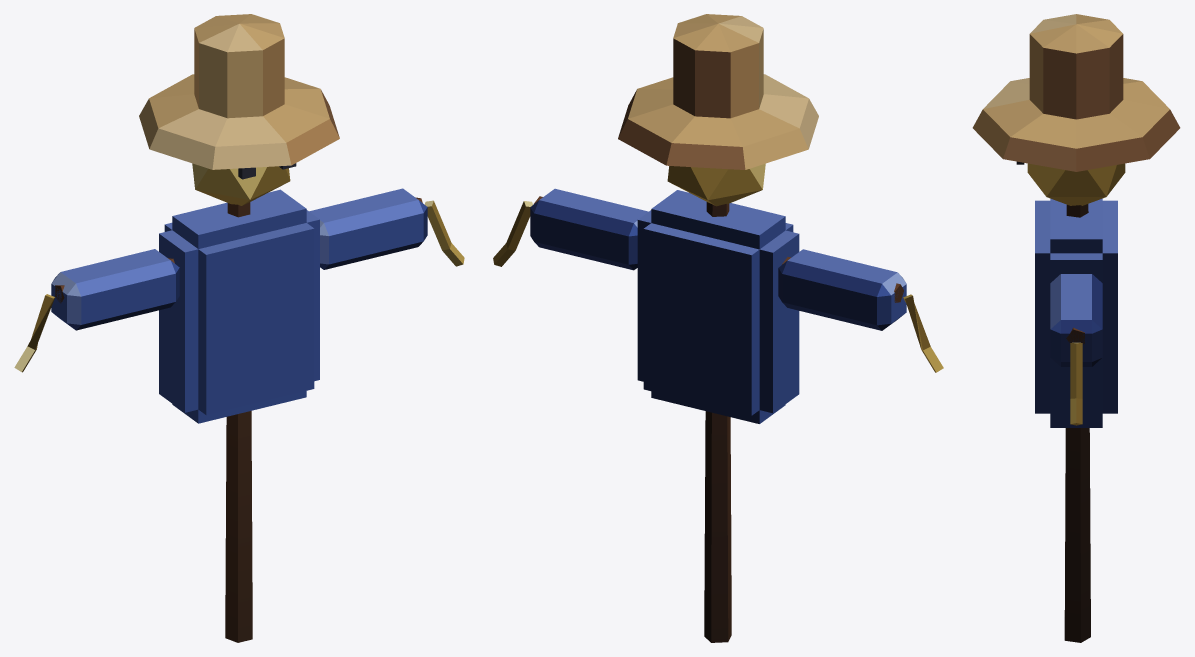
The model's file is scarecrow.glb.
The picture shows the model from 3 angles, left to right: view 1: azimuth 30°, elevation 25°; view 2: azimuth 150°, elevation 25°; view 3: azimuth 270°, elevation 25°; orthographic projection.
Parts seen in each view (by area): view 1: scarecrow; view 2: scarecrow; view 3: scarecrow.
Boxes of the visible parts, <box> form: scarecrow: <box>14,14,464,642</box>; scarecrow: <box>493,14,943,642</box>; scarecrow: <box>972,14,1180,642</box>.
Size of the model in its own units: 0.9992 by 1.3 by 0.4.
